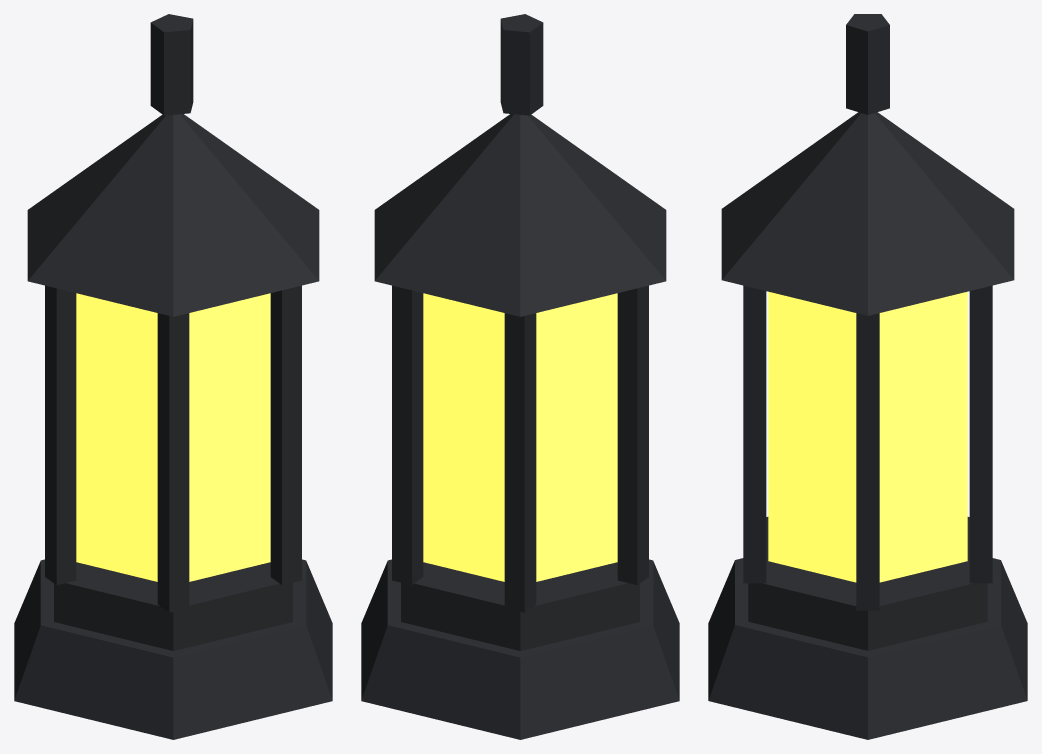
File: ember_lamp.glb
3 renders of one model, left to right at view 1: azimuth 30°, elevation 25°; view 2: azimuth 150°, elevation 25°; view 3: azimuth 270°, elevation 25°, orthographic.
Visible parts, largest first — view 1: ember_lamp; view 2: ember_lamp; view 3: ember_lamp.
Part boxes in pixels (x1,y1,x2,y2): ember_lamp: (14, 14, 332, 739); ember_lamp: (361, 14, 679, 739); ember_lamp: (708, 14, 1027, 739).
Bounding box in the file's own units: 0.24 × 0.46 × 0.2078.
